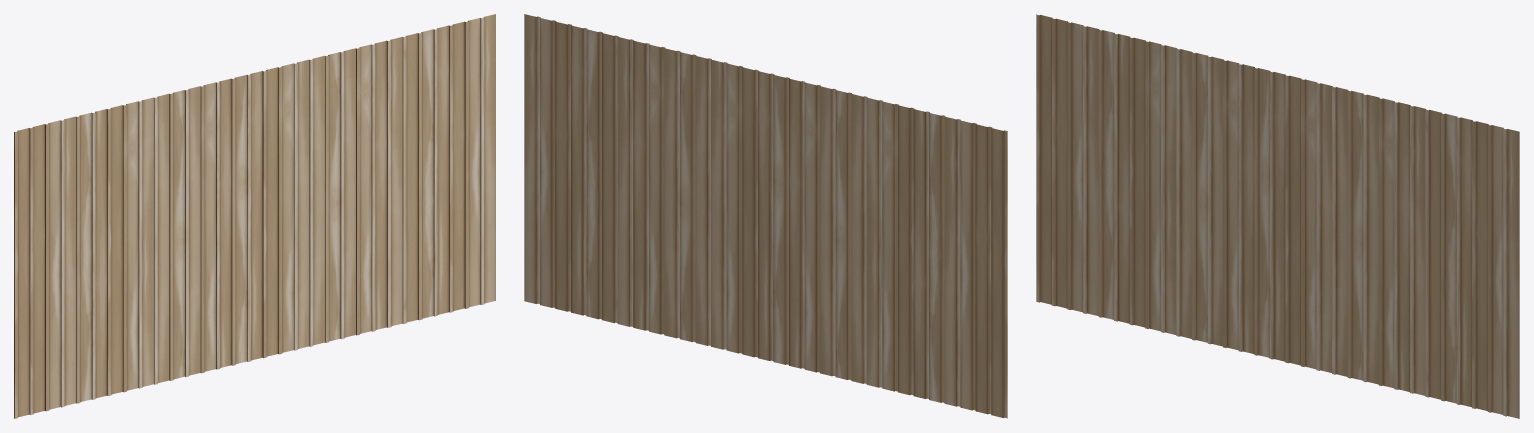
The model's file is BOARD+BATTEN.glb.
The picture shows the model from 3 angles, left to right: view 1: azimuth 30°, elevation 25°; view 2: azimuth 150°, elevation 25°; view 3: azimuth 330°, elevation 25°; orthographic projection.
Parts seen in each view (by area): view 1: Object028; view 2: Object028; view 3: Object028.
Part boxes in pixels (x1,y1,x2,y2): Object028: (14, 14, 495, 418); Object028: (524, 14, 1007, 418); Object028: (1036, 14, 1519, 418).
Size of the model in its own units: 9.76 by 5.55 by 0.0291.
1 material, 1 textured.
